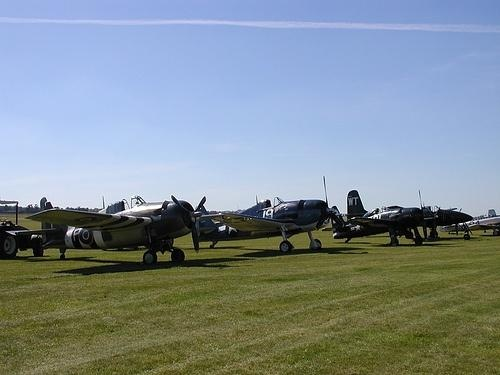aeroplane: (25, 198, 207, 267), (195, 196, 337, 256), (348, 191, 474, 241), (330, 206, 429, 247), (442, 210, 500, 240)
